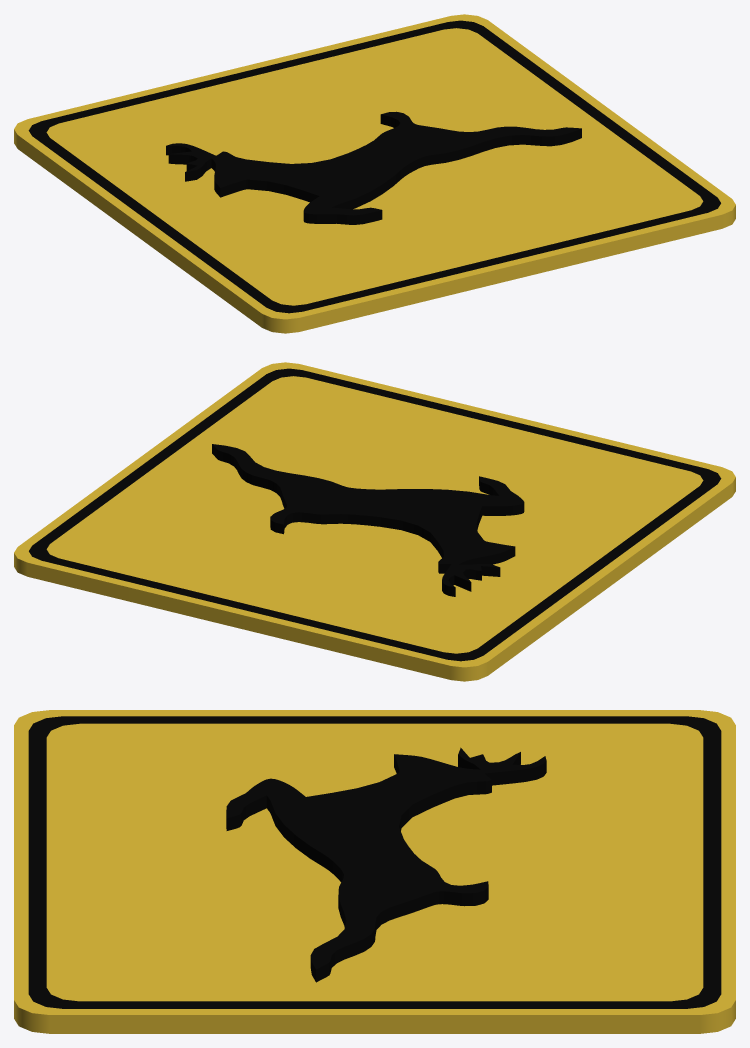
The model's file is deer_sign.fbx.
3 views of the same model, one above another, from view 1: azimuth 30°, elevation 25°; view 2: azimuth 150°, elevation 25°; view 3: azimuth 270°, elevation 25° (orthographic). The views are drawn at different scales.
Visible parts, largest first — view 1: square_yellow_sign, deer; view 2: square_yellow_sign, deer; view 3: square_yellow_sign, deer.
Boxes of the visible parts, left/top/right/bottom form: square_yellow_sign: left=14, top=14, right=735, bottom=333; deer: left=166, top=111, right=581, bottom=224; square_yellow_sign: left=14, top=362, right=735, bottom=681; deer: left=212, top=444, right=524, bottom=596; square_yellow_sign: left=14, top=710, right=735, bottom=1033; deer: left=226, top=747, right=546, bottom=982.
Size of what is drawn, in the model's own units: 70.96 by 3.42 by 70.96.
